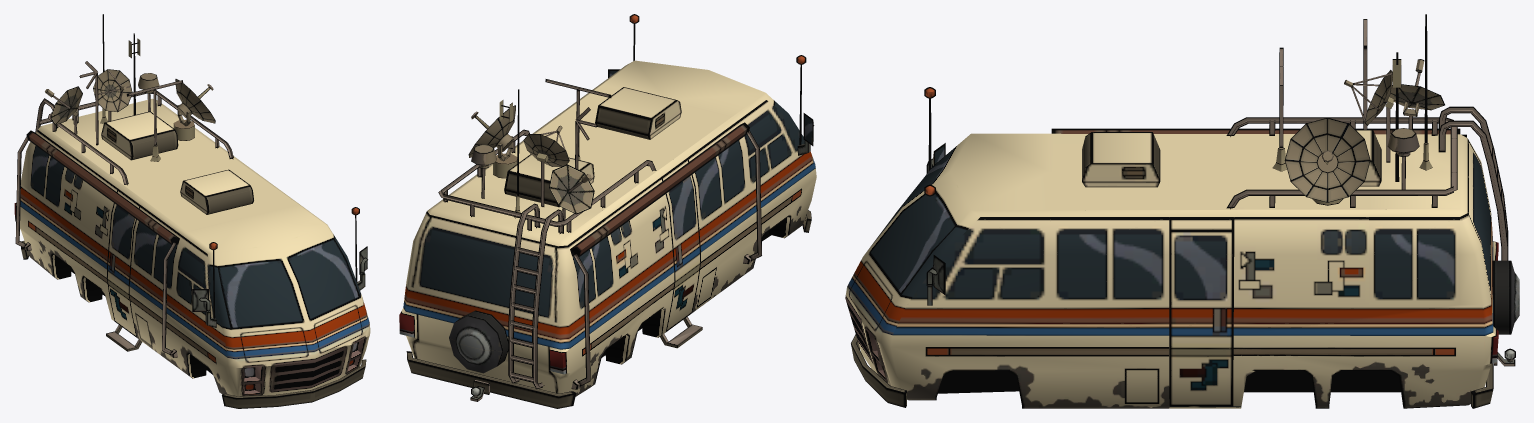
The model's file is Rustbucket.obj.
3 renders of one model, left to right at view 1: azimuth 30°, elevation 25°; view 2: azimuth 150°, elevation 25°; view 3: azimuth 270°, elevation 25°, orthographic. The views are drawn at different scales.
Visible parts, largest first — view 1: obj1; view 2: obj1; view 3: obj1.
Boxes of the visible parts, x1=… form: obj1: x1=14, y1=14, x2=370, y2=408; obj1: x1=399, y1=14, x2=816, y2=408; obj1: x1=845, y1=14, x2=1519, y2=408.
Size of the model in its own units: 3.57 by 4.97 by 8.43.
